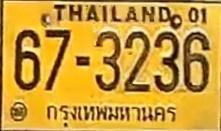2: (124, 30, 150, 92)
3: (94, 30, 120, 90), (153, 31, 179, 91)
6: (182, 31, 210, 92), (14, 29, 39, 89)
7: (44, 29, 70, 90)
BKK: (43, 100, 179, 128)
